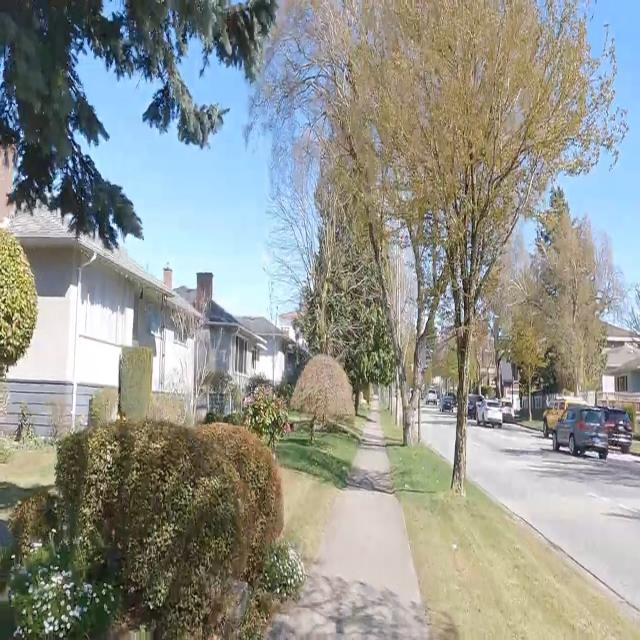Automobile: (553, 404, 607, 458), (600, 407, 631, 453), (478, 399, 502, 427), (543, 408, 561, 437), (441, 392, 456, 412), (426, 389, 436, 405)
Road: (469, 421, 639, 608), (423, 408, 453, 461)
Sidewalk: (270, 422, 428, 639)
